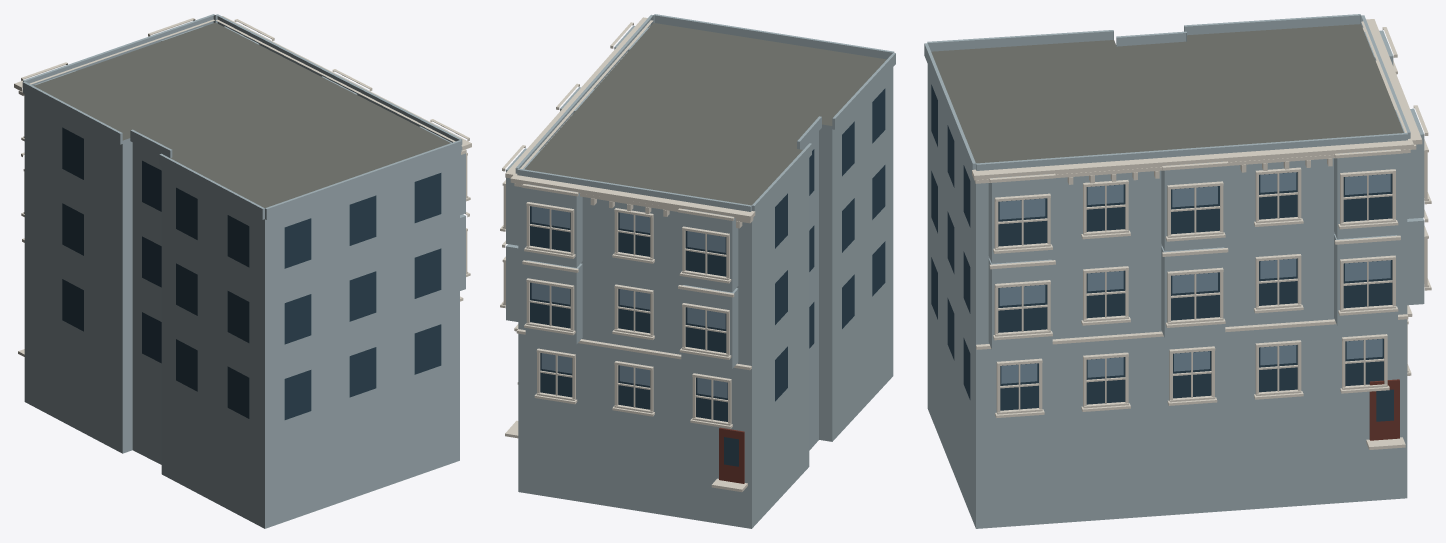
3 views of the same model, side by side, from view 1: azimuth 30°, elevation 25°; view 2: azimuth 150°, elevation 25°; view 3: azimuth 270°, elevation 25° (orthographic). The views are drawn at different scales.
Parts seen in each view (by area): view 1: Footprint 0 / surface 2, Footprint 0 / surface 1, Inset glazing, Facade bay volumes, Cornices and window frames; view 2: Footprint 0 / surface 2, Footprint 0 / surface 1, Facade bay volumes, Cornices and window frames, Inset glazing, Sky reflection panels, Storefronts and doors; view 3: Footprint 0 / surface 2, Footprint 0 / surface 1, Cornices and window frames, Facade bay volumes, Inset glazing, Sky reflection panels, Storefronts and doors.
Boxes of the visible parts, left/top/right/bottom form: Footprint 0 / surface 2: left=24, top=94, right=459, bottom=528; Footprint 0 / surface 1: left=34, top=22, right=450, bottom=207; Inset glazing: left=62, top=127, right=441, bottom=419; Facade bay volumes: left=22, top=14, right=465, bottom=290; Cornices and window frames: left=14, top=16, right=471, bottom=356; Footprint 0 / surface 2: left=518, top=67, right=893, bottom=528; Footprint 0 / surface 1: left=524, top=23, right=886, bottom=205; Facade bay volumes: left=506, top=14, right=895, bottom=368; Cornices and window frames: left=500, top=17, right=755, bottom=492; Inset glazing: left=530, top=88, right=885, bottom=466; Sky reflection panels: left=531, top=206, right=727, bottom=398; Storefronts and doors: left=719, top=427, right=744, bottom=483; Footprint 0 / surface 2: left=927, top=40, right=1407, bottom=528; Footprint 0 / surface 1: left=931, top=24, right=1403, bottom=163; Cornices and window frames: left=972, top=19, right=1431, bottom=449; Facade bay volumes: left=924, top=14, right=1424, bottom=349; Inset glazing: left=931, top=84, right=1393, bottom=421; Sky reflection panels: left=999, top=172, right=1390, bottom=383; Storefronts and doors: left=1369, top=379, right=1399, bottom=440.
Size of the model in its own units: 13.92 by 14.72 by 18.5.
